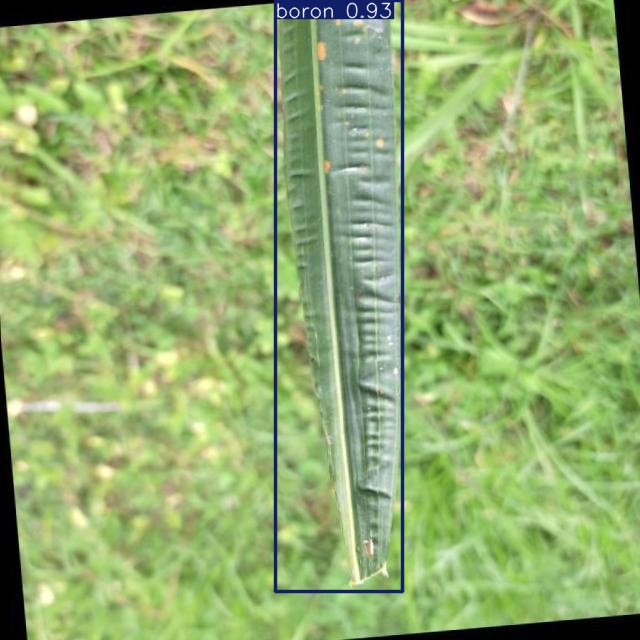nitrogen: (275, 0, 402, 591)
